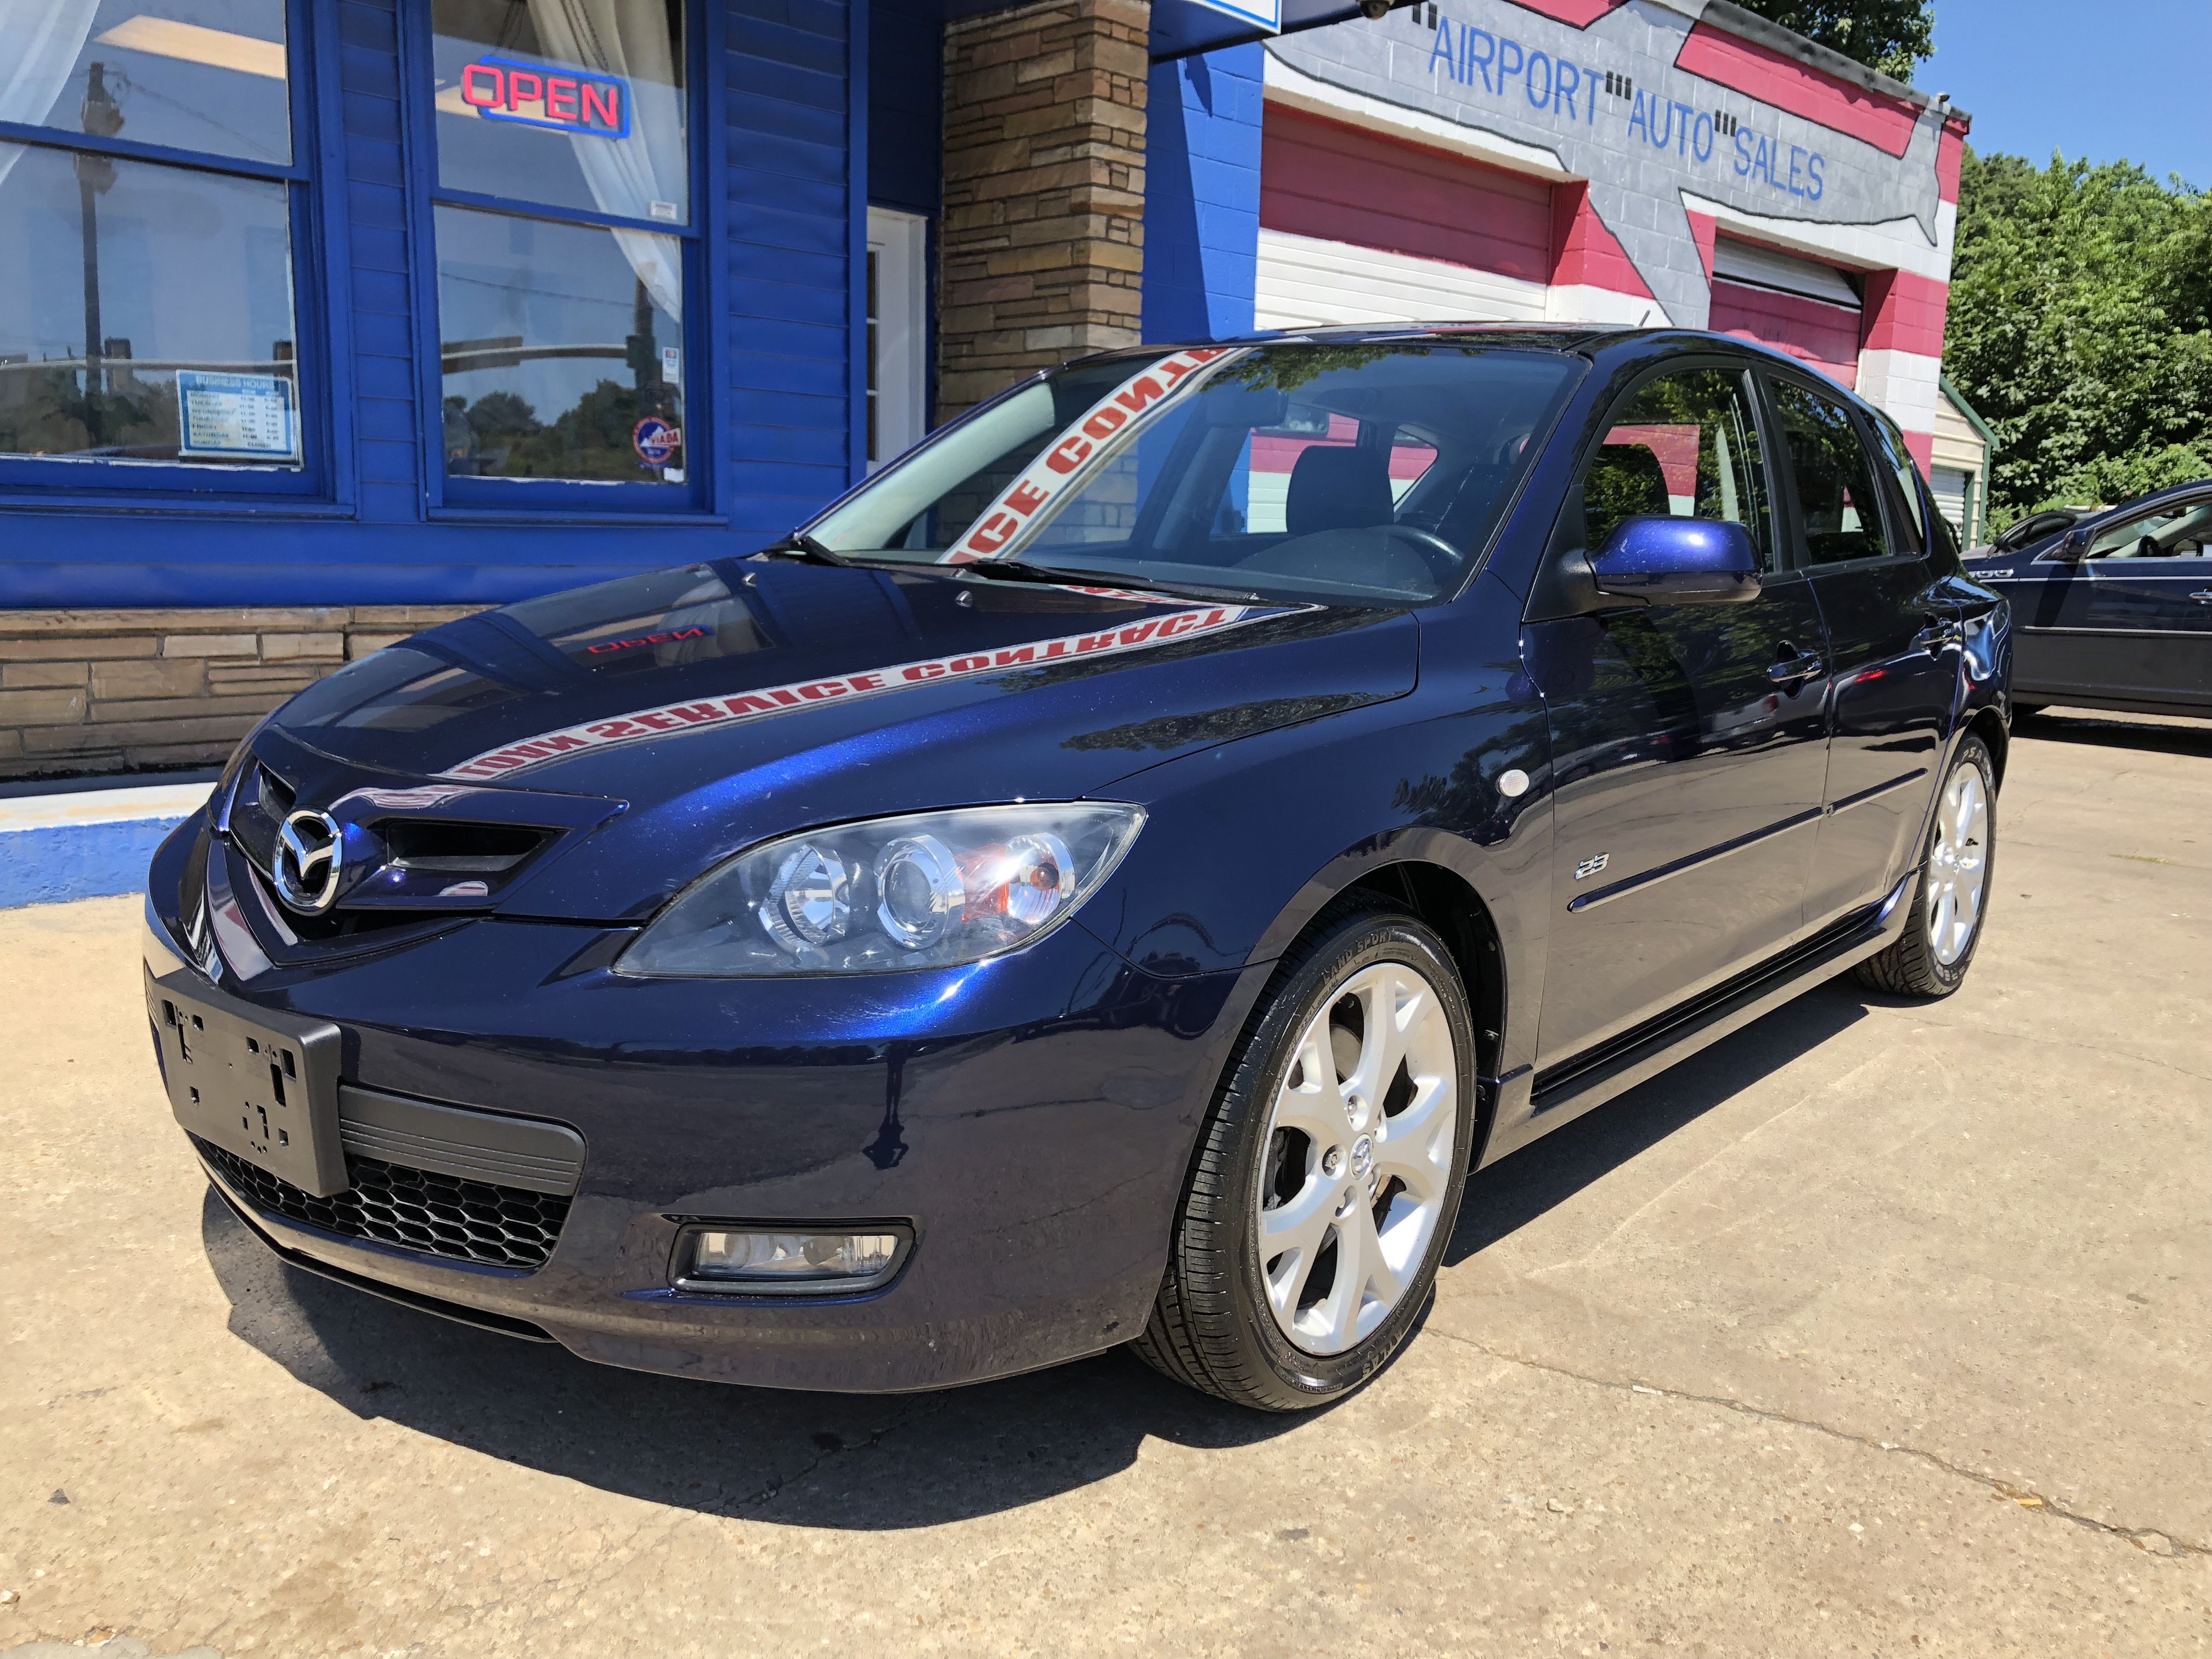Mazda3 Hatchback: (138, 317, 2013, 1420)
